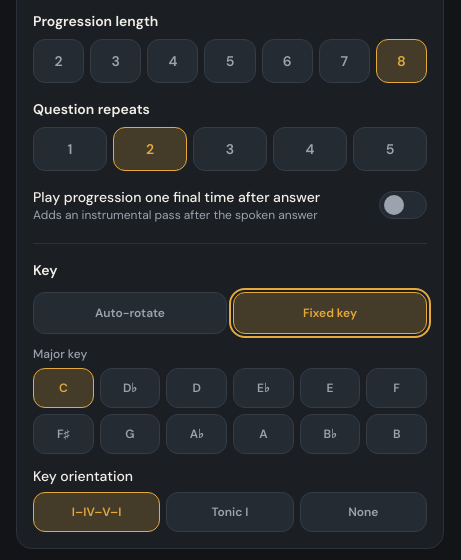
Paws Off App UI › updates primary Sound, Key, Drone, and Advanced Settings and persists to localStorage
Earlier steps of the test are not shown.
Later steps or results of the test are not shown.
(page scrolled)
What coordinates should you click on to do the following:
click the button named "G Major"
I would click on:
 (130, 434)
Its box is [100,414,160,454].
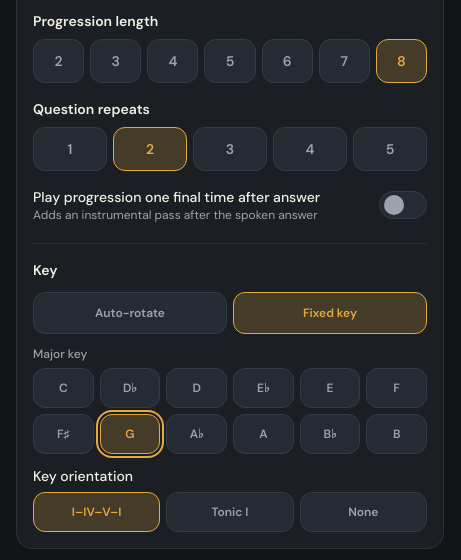
What coordinates should you click on to do the following:
click the button "Auto-rotate"
I would click on:
 (130, 313)
Its box is [33,292,227,334].
(page scrolled)
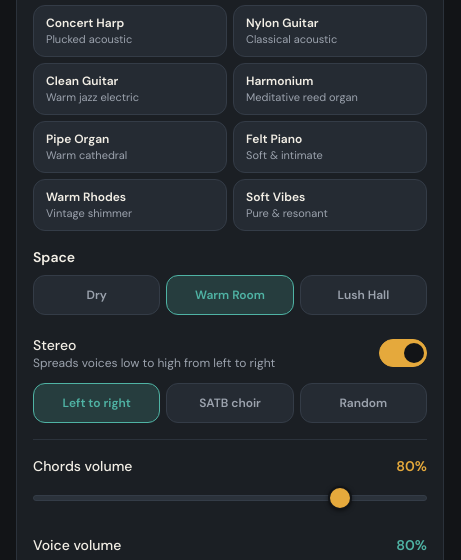
What coordinates should you click on to do the following:
click the button "Warm Rhodes Vintage shimmer"
I would click on:
 (130, 205)
Its box is [33,179,227,231].
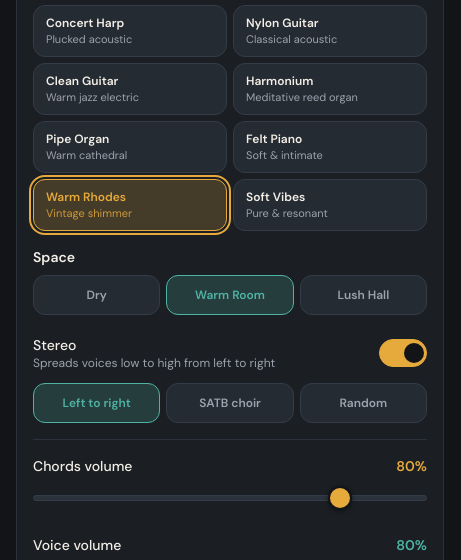
What coordinates should you click on to do the following:
click the button "Lush Hall"
I would click on:
 (363, 295)
Its box is [300,275,427,315].
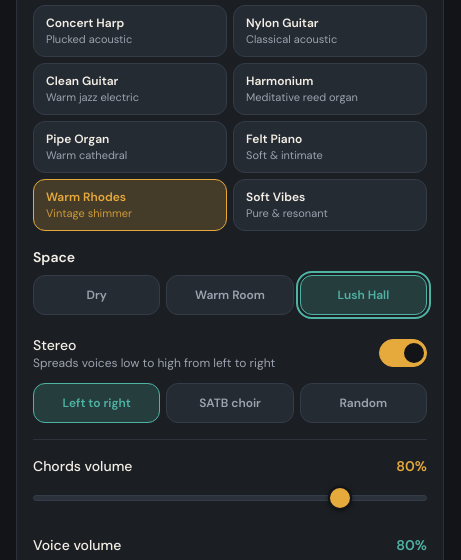
What coordinates should you click on to do the following:
click the button "Random"
I would click on:
 (363, 403)
Its box is [300,383,427,423].
(page scrolled)
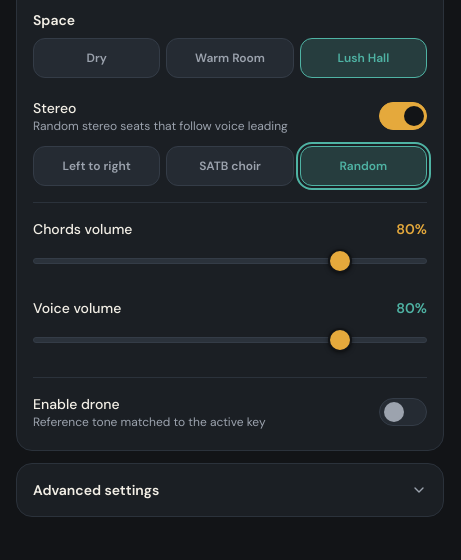
What coordinates should you click on to do the following:
click the switch named "enable drone" next to "Reference tone matched to the active key"
I would click on:
 (403, 412)
Its box is [379,398,427,426].
(page scrolled)
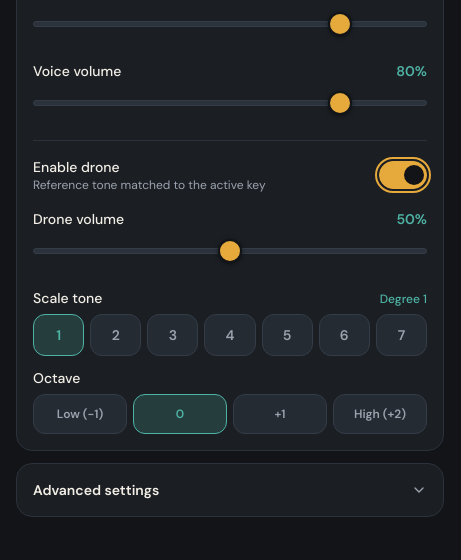
Now the slider labelled "Drone volume" is shown, box [33,233,427,269]
